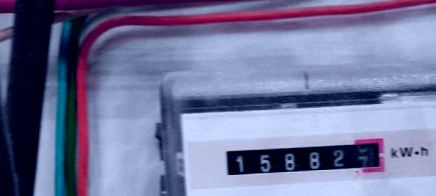1: (232, 152, 245, 172)
2: (331, 147, 343, 167)
5: (257, 152, 270, 172)
7: (356, 153, 368, 168)
8: (282, 150, 295, 171), (307, 149, 320, 170)
screen: (216, 132, 393, 183)
